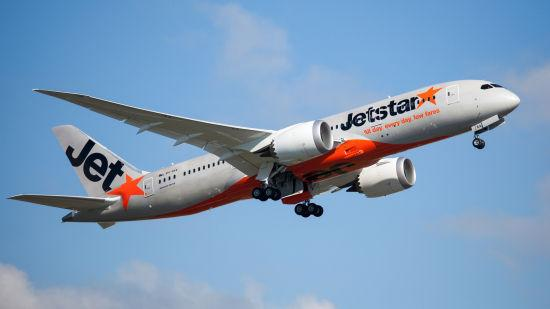airplane: (8, 71, 525, 234)
